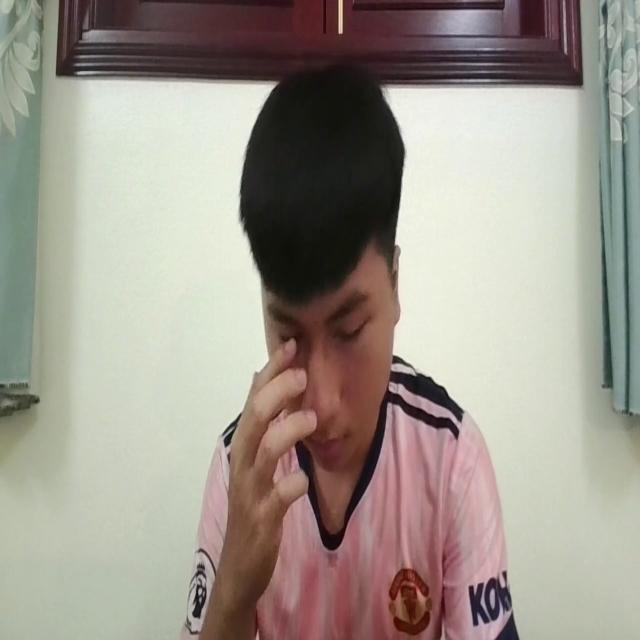student: (180, 52, 508, 640)
